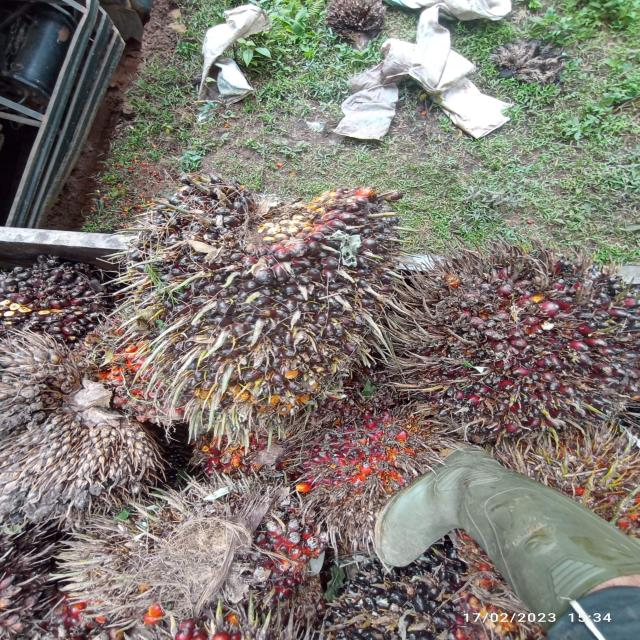fraksi 00: (108, 159, 418, 460), (313, 527, 501, 640), (0, 247, 102, 356)
fraksi 1: (410, 203, 640, 453)
fraksi 3: (296, 393, 474, 523)
